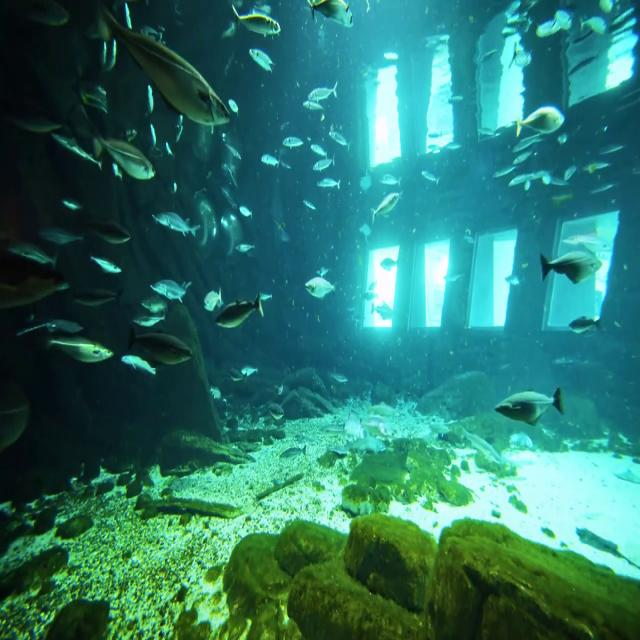fish: (96, 0, 235, 141), (84, 125, 164, 198), (532, 228, 605, 304), (482, 376, 572, 431), (0, 242, 73, 302), (128, 325, 204, 378), (213, 277, 266, 349), (502, 100, 571, 150), (224, 0, 290, 49), (150, 194, 203, 253), (50, 325, 114, 369), (566, 294, 614, 342), (245, 34, 285, 83), (146, 270, 193, 308), (90, 212, 137, 248), (302, 0, 352, 32), (304, 278, 346, 314), (306, 73, 340, 104)
